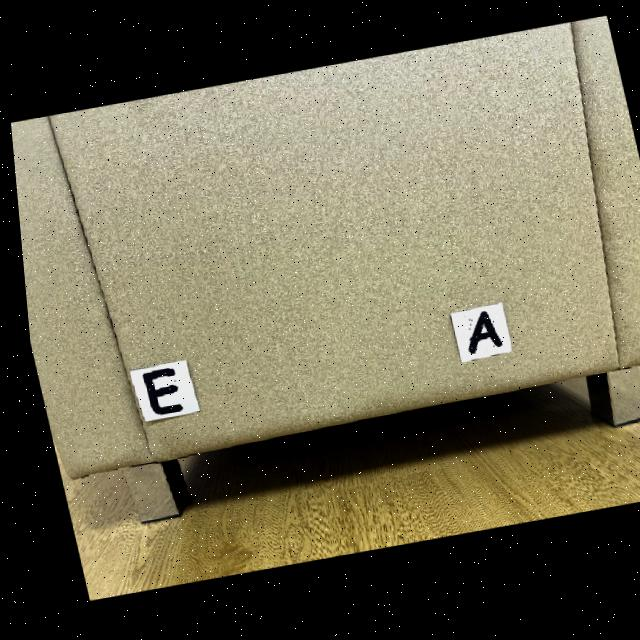A: (462, 316, 495, 356)
E: (136, 369, 176, 416)
